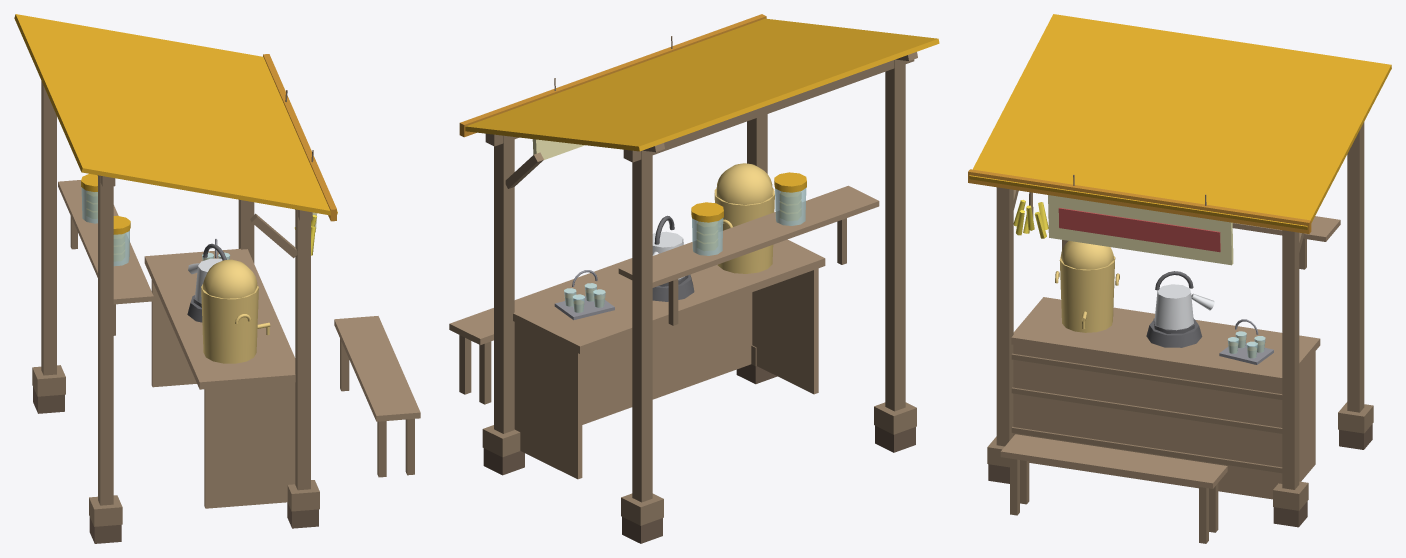
Rendered from south_indian_village_tea_stall.glb.
The picture shows the model from 3 angles, left to right: view 1: azimuth 30°, elevation 25°; view 2: azimuth 150°, elevation 25°; view 3: azimuth 270°, elevation 25°; orthographic projection. The views are drawn at different scales.
Parts seen in each view (by area): view 1: Stall_Canopy_Roof_Assembly, Stall_Sales_Counter_Assembly, Roadside_Customer_Bench, Post_Rear_Left, Post_Rear_Right, Post_Front_Left, Brass_Tea_Boiler_Samovar, Stall_Timber_Structural_Frame, Post_Front_Right, Glass_Snack_Jar_1, Glass_Snack_Jar_2, Tea_Pouring_Kettle; view 2: Stall_Sales_Counter_Assembly, Stall_Canopy_Roof_Assembly, Post_Rear_Left, Post_Rear_Right, Post_Front_Right, Brass_Tea_Boiler_Samovar, Roadside_Customer_Bench, Stall_Timber_Structural_Frame, Post_Front_Left, Glass_Snack_Jar_1, Glass_Snack_Jar_2, Cutting_Chai_Wire_Caddy (+3 smaller); view 3: Stall_Canopy_Roof_Assembly, Stall_Sales_Counter_Assembly, Hanging_Chai_Point_Signboard, Roadside_Customer_Bench, Post_Rear_Right, Post_Front_Right, Post_Front_Left, Brass_Tea_Boiler_Samovar, Tea_Pouring_Kettle, Cutting_Chai_Wire_Caddy, Portable_Stove_And_Kettle, Hanging_Banana_Bunch.
Boxes of the visible parts, box(x1,y1,x2,y2) form: Stall_Canopy_Roof_Assembly: box(14, 14, 337, 221); Stall_Sales_Counter_Assembly: box(58, 180, 295, 508); Roadside_Customer_Bench: box(334, 316, 420, 477); Post_Rear_Left: box(89, 175, 122, 543); Post_Rear_Right: box(32, 81, 65, 413); Post_Front_Left: box(287, 209, 319, 528); Brass_Tea_Boiler_Samovar: box(201, 259, 270, 363); Stall_Timber_Structural_Frame: box(97, 175, 312, 258); Post_Front_Right: box(238, 199, 254, 263); Glass_Snack_Jar_1: box(113, 215, 130, 266); Glass_Snack_Jar_2: box(81, 174, 97, 223); Tea_Pouring_Kettle: box(188, 243, 226, 302); Stall_Sales_Counter_Assembly: box(513, 185, 879, 479); Stall_Canopy_Roof_Assembly: box(459, 14, 939, 151); Post_Rear_Left: box(874, 59, 916, 452); Post_Rear_Right: box(621, 150, 663, 543); Post_Front_Right: box(482, 135, 524, 475); Brass_Tea_Boiler_Samovar: box(714, 163, 774, 273); Roadside_Customer_Bench: box(449, 258, 632, 404); Stall_Timber_Structural_Frame: box(485, 52, 917, 188); Post_Front_Left: box(736, 114, 777, 384); Glass_Snack_Jar_1: box(774, 172, 806, 225); Glass_Snack_Jar_2: box(691, 202, 723, 255); Cutting_Chai_Wire_Caddy: box(554, 270, 614, 320); Stall_Canopy_Roof_Assembly: box(968, 14, 1391, 233); Stall_Sales_Counter_Assembly: box(1011, 216, 1340, 499); Hanging_Chai_Point_Signboard: box(1048, 174, 1233, 265); Roadside_Customer_Bench: box(1000, 434, 1227, 543); Post_Rear_Right: box(1338, 122, 1373, 449); Post_Front_Right: box(1273, 230, 1308, 527); Post_Front_Left: box(987, 187, 1013, 483); Brass_Tea_Boiler_Samovar: box(1055, 241, 1119, 332); Tea_Pouring_Kettle: box(1154, 271, 1214, 330); Cutting_Chai_Wire_Caddy: box(1219, 319, 1273, 364); Portable_Stove_And_Kettle: box(1146, 318, 1202, 347); Hanging_Banana_Bunch: box(1013, 192, 1048, 238).
Bounding box in the file's own units: 2.73 × 2.63 × 2.73.
